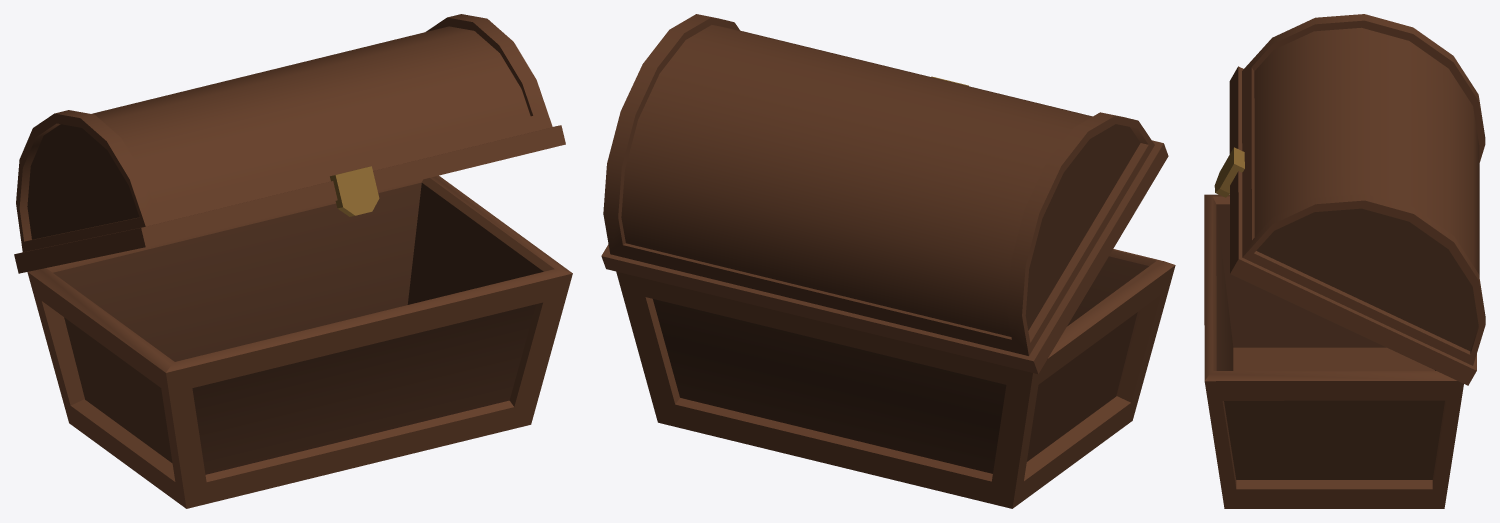
Rendered from Forziere vuoto .fbx.
The picture shows the model from 3 angles, left to right: view 1: azimuth 30°, elevation 25°; view 2: azimuth 150°, elevation 25°; view 3: azimuth 270°, elevation 25°; orthographic projection. The views are drawn at different scales.
Parts seen in each view (by area): view 1: Treasure Chest 1.001; view 2: Treasure Chest 1.001; view 3: Treasure Chest 1.001.
Boxes of the visible parts, x1,y1,x2,y2 form: Treasure Chest 1.001: [14, 14, 572, 508]; Treasure Chest 1.001: [601, 14, 1175, 508]; Treasure Chest 1.001: [1204, 14, 1485, 508].
Bounding box in the file's own units: 208 × 162 × 128.
